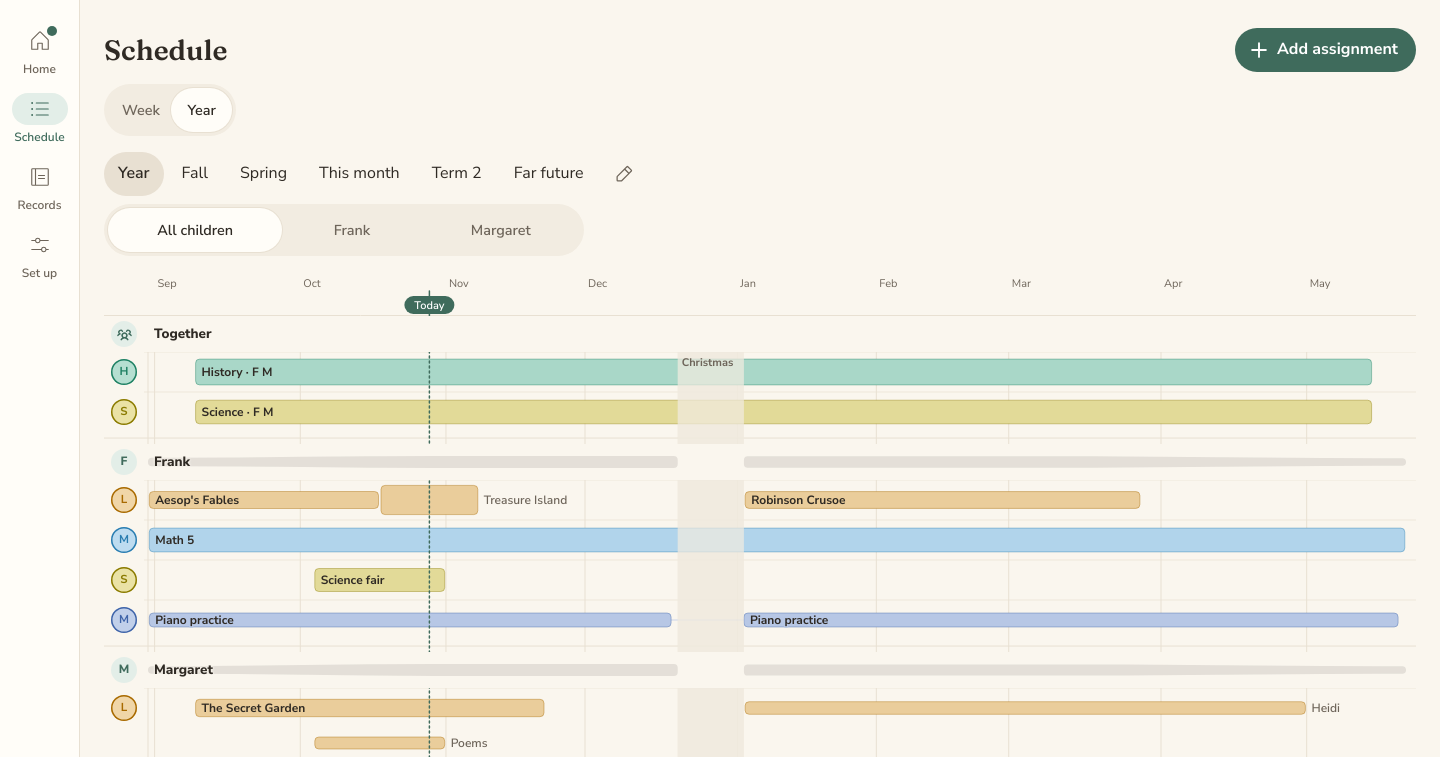
Test: a view with no plan, and an empty month (S7b-07) › a view outside the plan says 'Nothing planned in {name} yet.' over the grid; one inside doesn't
The width and height of the screenshot is (1440, 757).
Check: the text "Nothing planned in " is not shown
What coordinates should you click on to do the following:
click the button "Far future"
I would click on:
 (549, 174)
Its box is [500,152,598,196].
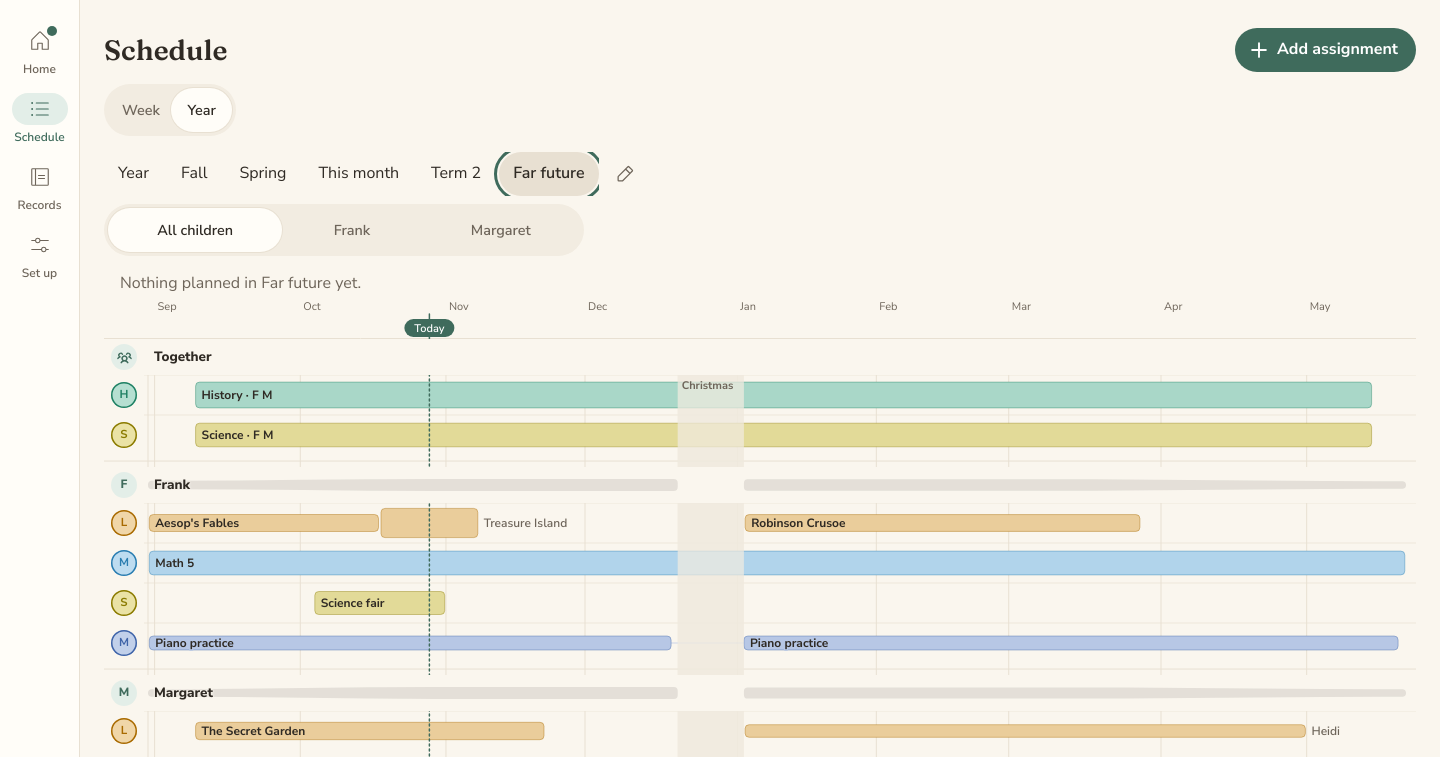
Check: the text "Nothing planned in Far future yet." is shown, box [120,272,361,294]
What coordinates should you click on to do the following:
click the button "Term 2"
I would click on:
 (456, 174)
Its box is [417,152,495,196].
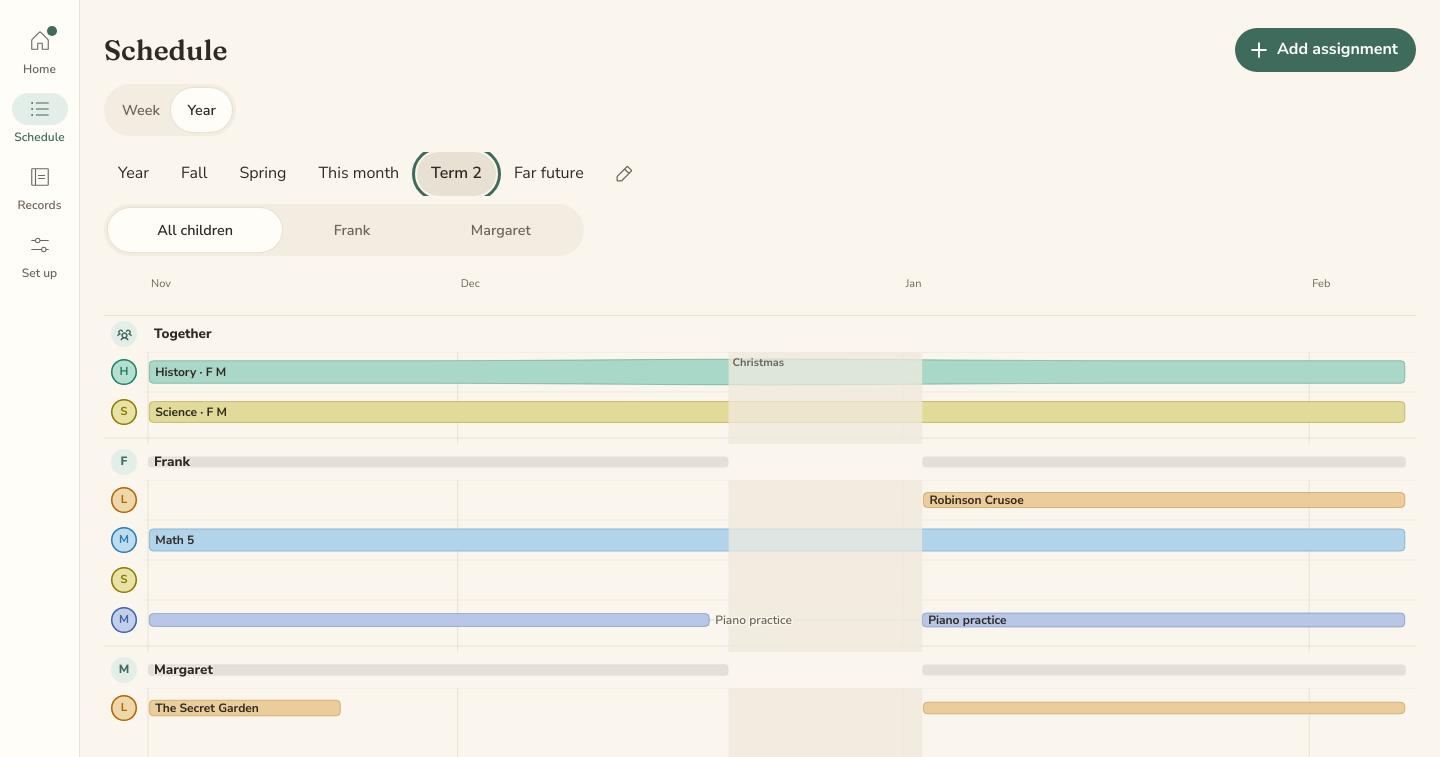
Check: the text "Nothing planned in " is gone
